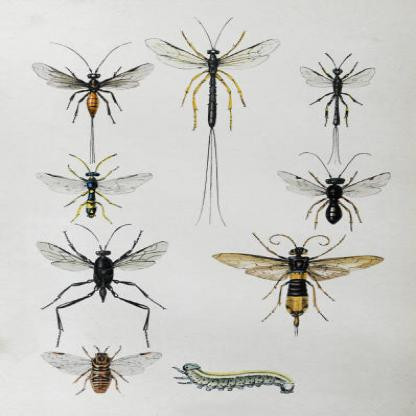sawfly: (146, 19, 280, 228), (210, 231, 385, 337), (34, 223, 171, 349), (28, 38, 154, 165), (280, 150, 391, 232), (299, 51, 378, 163), (33, 152, 152, 226), (38, 343, 163, 399), (170, 361, 298, 391)
